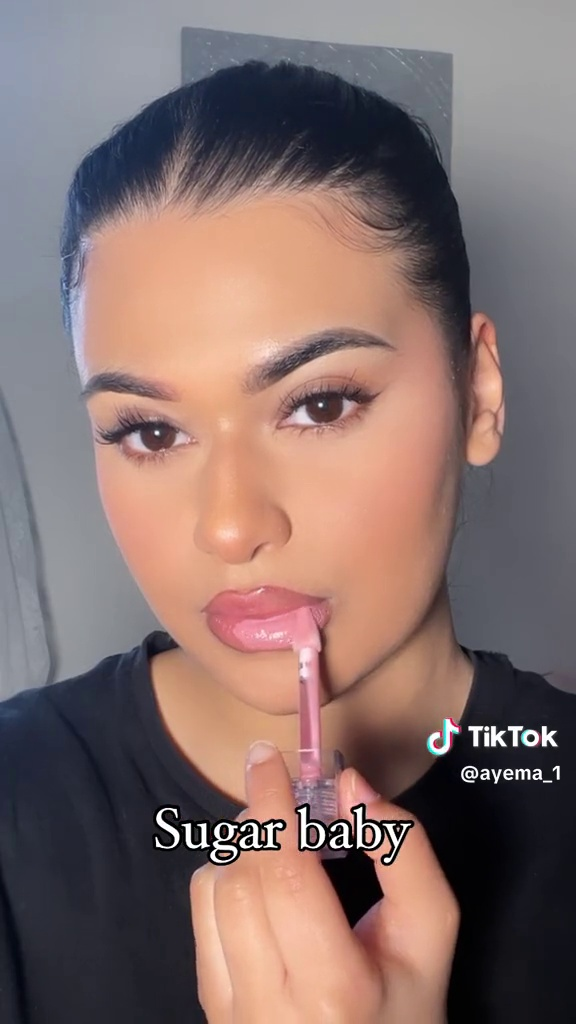train' :'yolo_data/train/images',: (262, 602, 352, 869)
